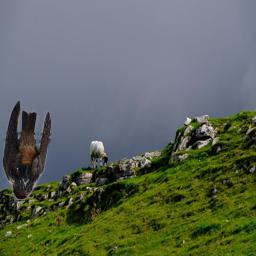Swallow: (2, 100, 51, 200)
